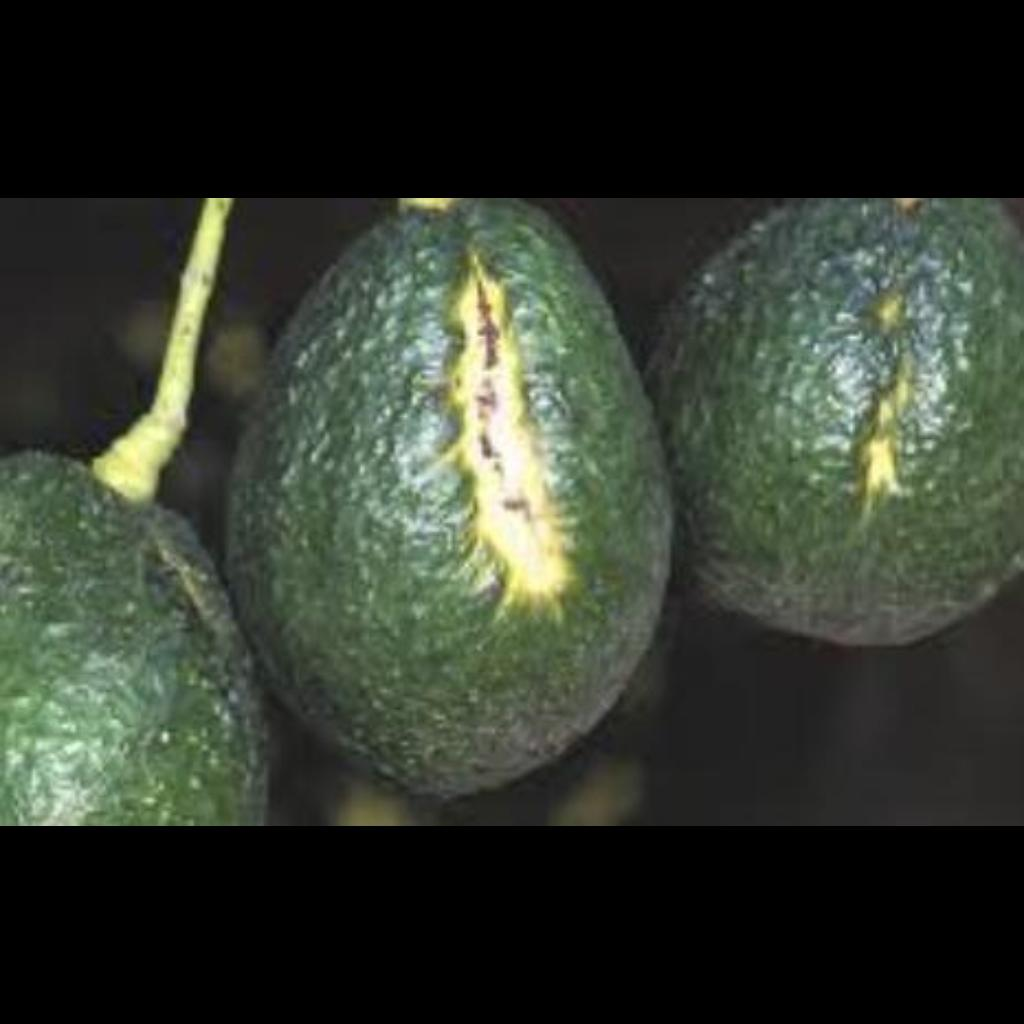Healthy: (17, 480, 221, 826)
sunblotch: (296, 296, 630, 708), (712, 278, 1010, 576)
